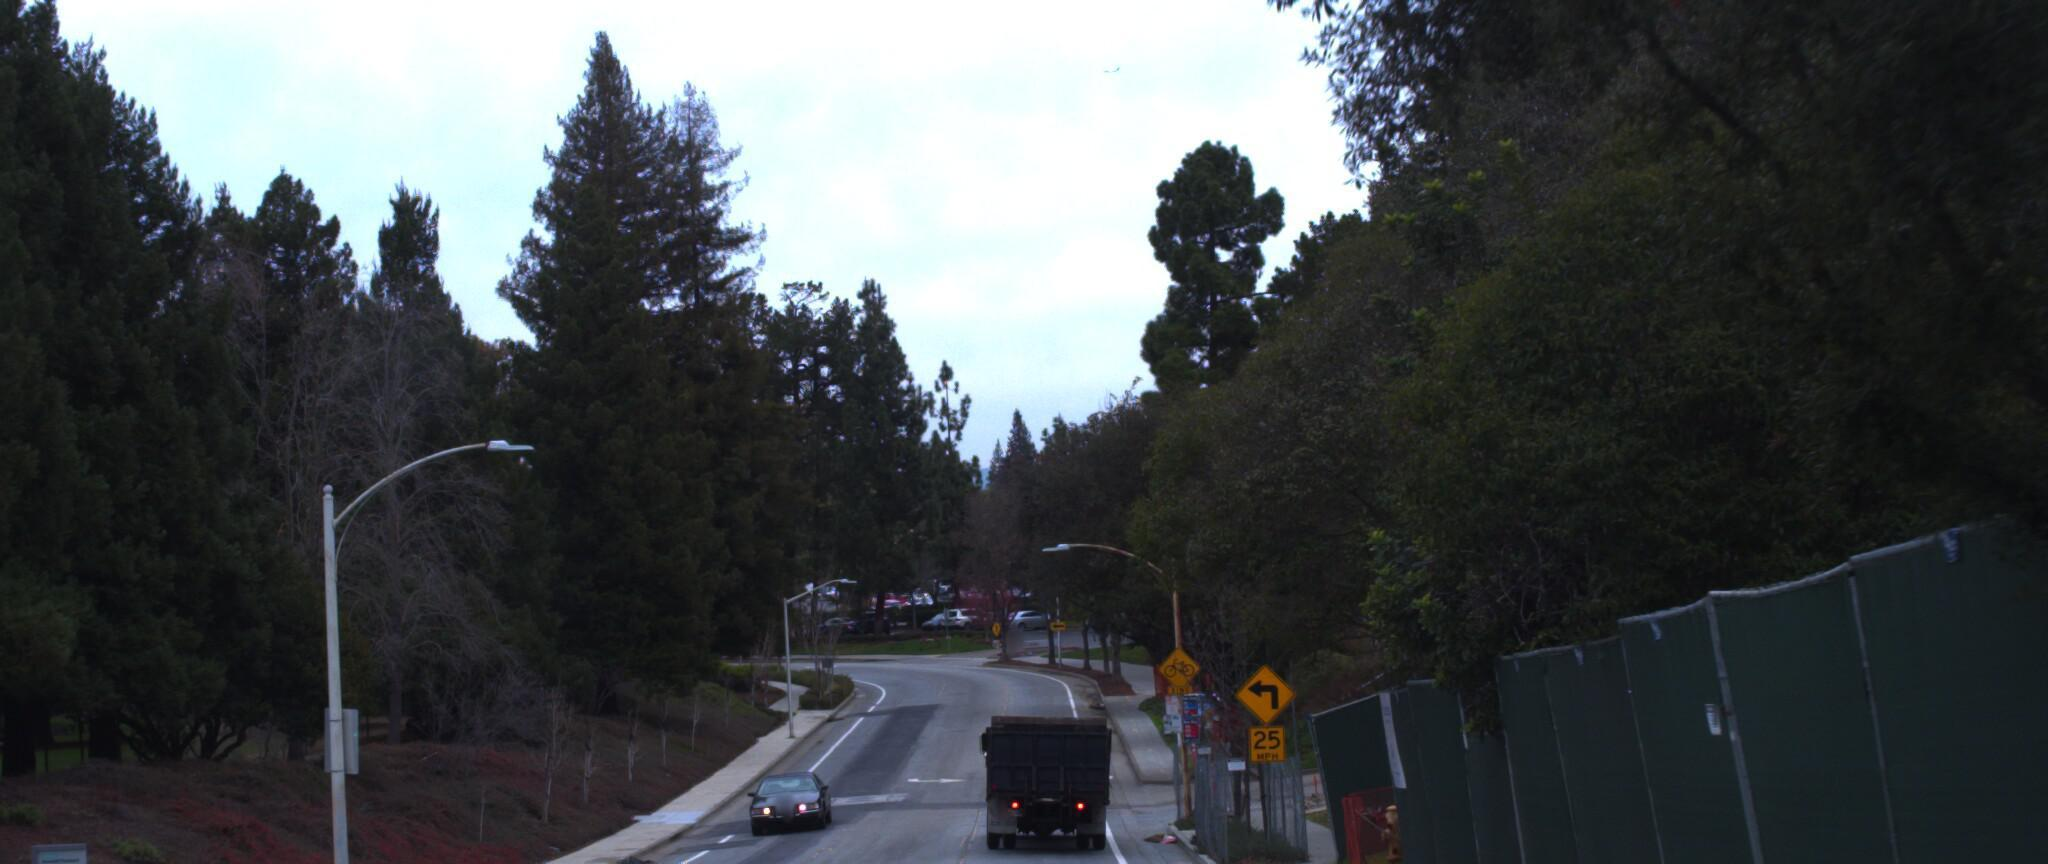truck: (967, 670, 1115, 864)
